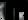person: (1, 3, 7, 20), (10, 9, 15, 20), (20, 13, 25, 20)
